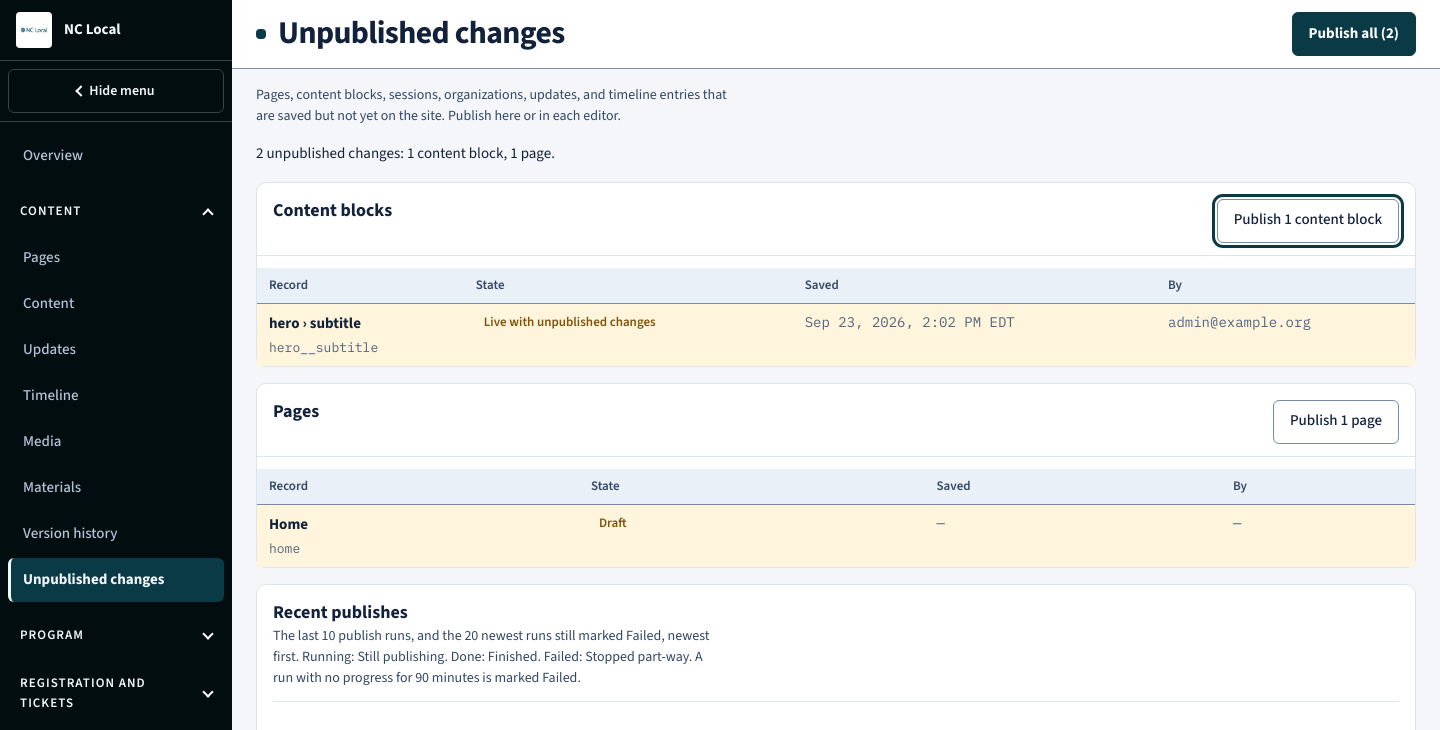
the Unpublished changes page › (b) publishes one collection with its ids, and the list clears when the drafts go clean
Expected: the heading "Unpublished changes" is shown, [278,15,565,53]
Click the button "Publish 1 content block" at (1308, 220), box [1217,198,1399,242]
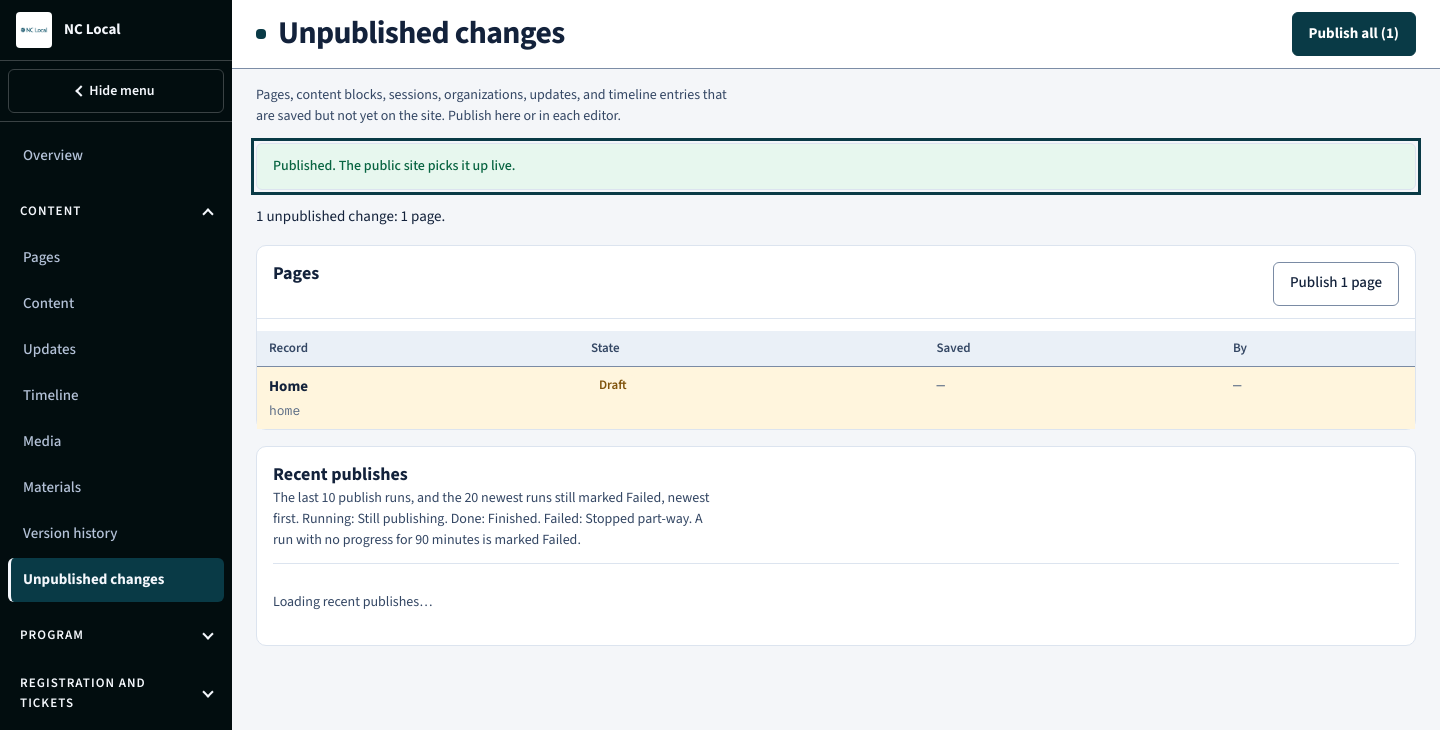
Result: the button "Publish all (1)" is shown at [1292,12,1416,56]
